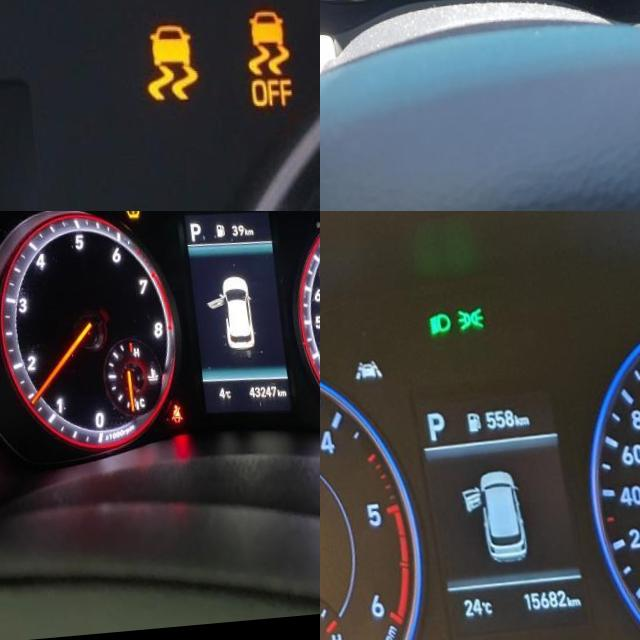LaneCenteringOff: (345, 365, 375, 386)
Low beam: (420, 317, 446, 343)
SideLamp: (450, 314, 479, 339)
